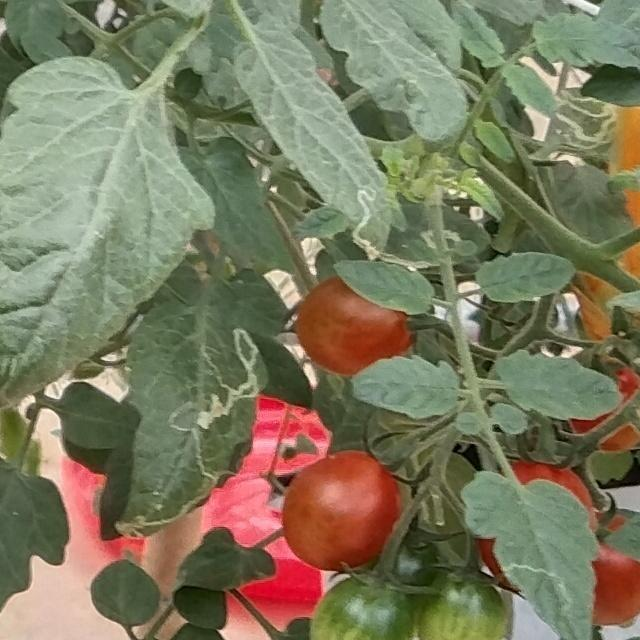Healthy: (0, 52, 218, 418), (492, 347, 628, 424), (351, 350, 463, 421), (330, 256, 436, 318), (474, 248, 575, 305), (89, 556, 163, 629)
Leaf_Miner: (110, 254, 271, 543), (222, 17, 400, 267), (451, 459, 611, 640), (522, 76, 630, 183)
